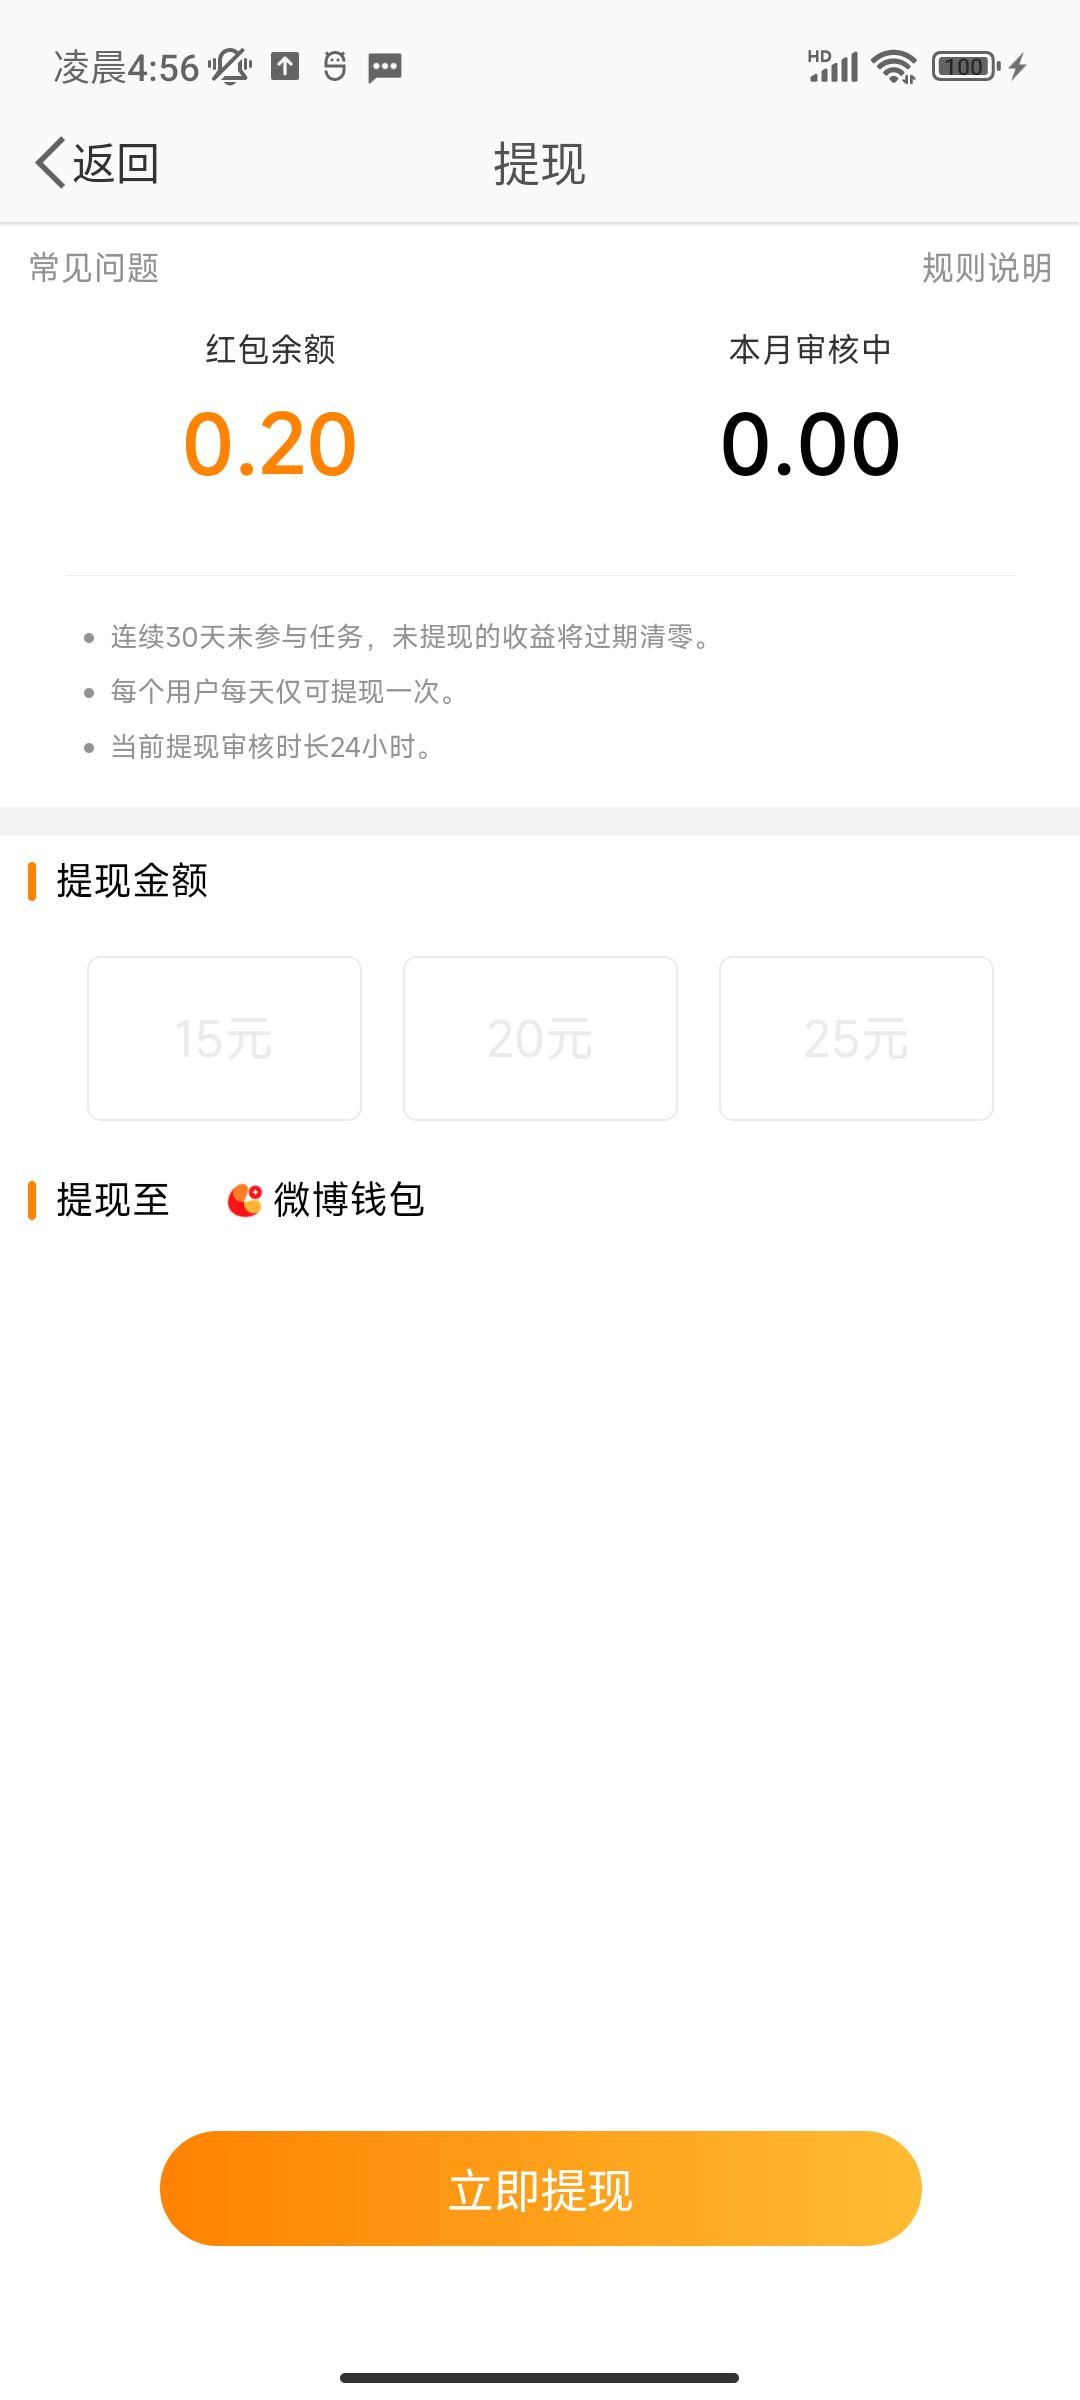ui_group: (2, 837, 1074, 2349)
